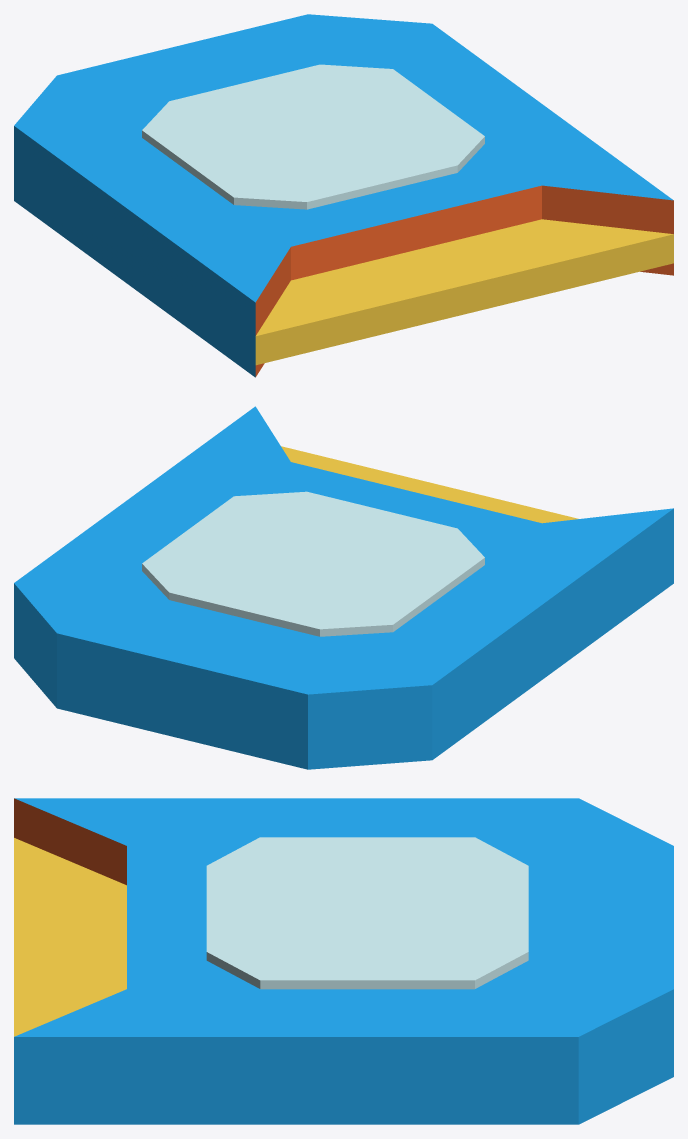
File: Upgrade_Oxygen_02.fbx
3 views of the same model, one above another, from view 1: azimuth 30°, elevation 25°; view 2: azimuth 150°, elevation 25°; view 3: azimuth 270°, elevation 25° (orthographic). The views are drawn at different scales.
Parts seen in each view (by area): view 1: Cube.001; view 2: Cube.001; view 3: Cube.001.
Boxes of the visible parts, box(x1,y1,x2,y2) form: Cube.001: box(14, 14, 673, 377); Cube.001: box(14, 406, 673, 769); Cube.001: box(14, 798, 673, 1124).
Bounding box in the file's own units: 86.17 × 17.74 × 101.
